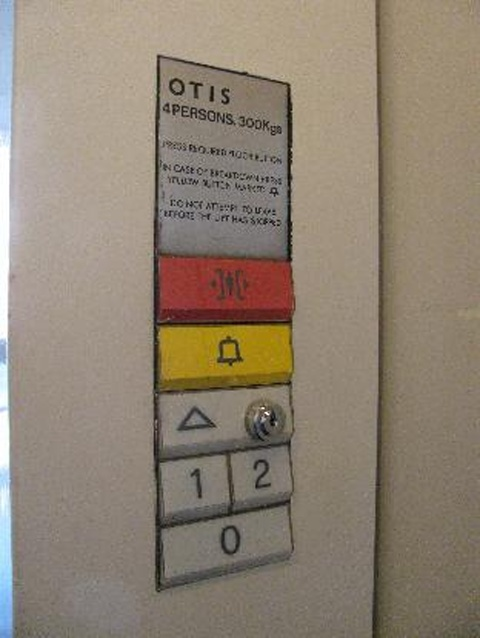0: (150, 495, 298, 597)
1: (151, 449, 237, 530)
2: (222, 441, 297, 518)
alarm: (150, 316, 297, 396)
open: (149, 249, 298, 330)
up: (151, 378, 298, 454)
